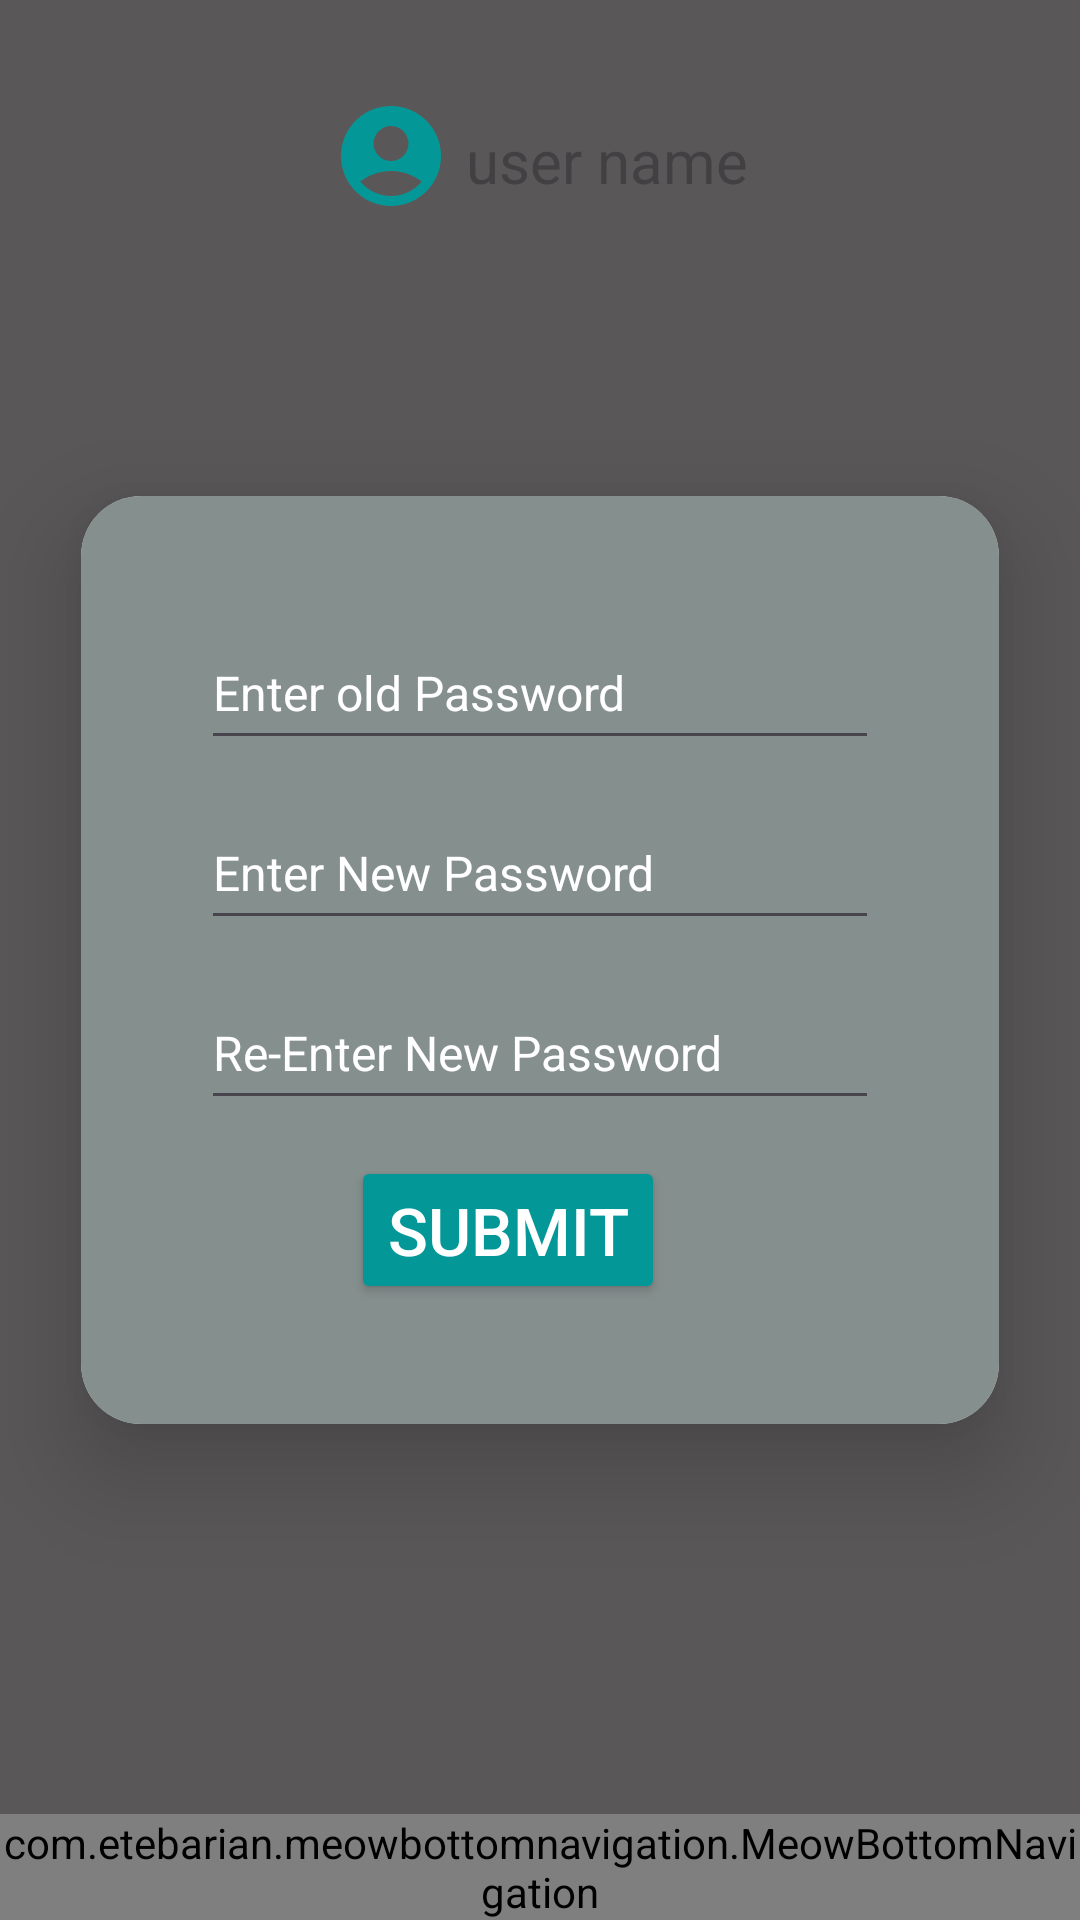

Where to tap for icons on this 1080w x 1920h app screen, as (x,y):
account circle: (391,156)
